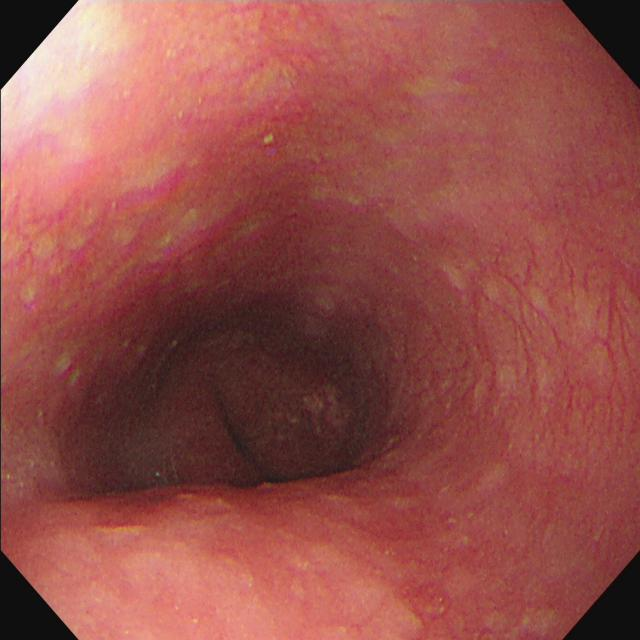I: (149, 338, 350, 482)
